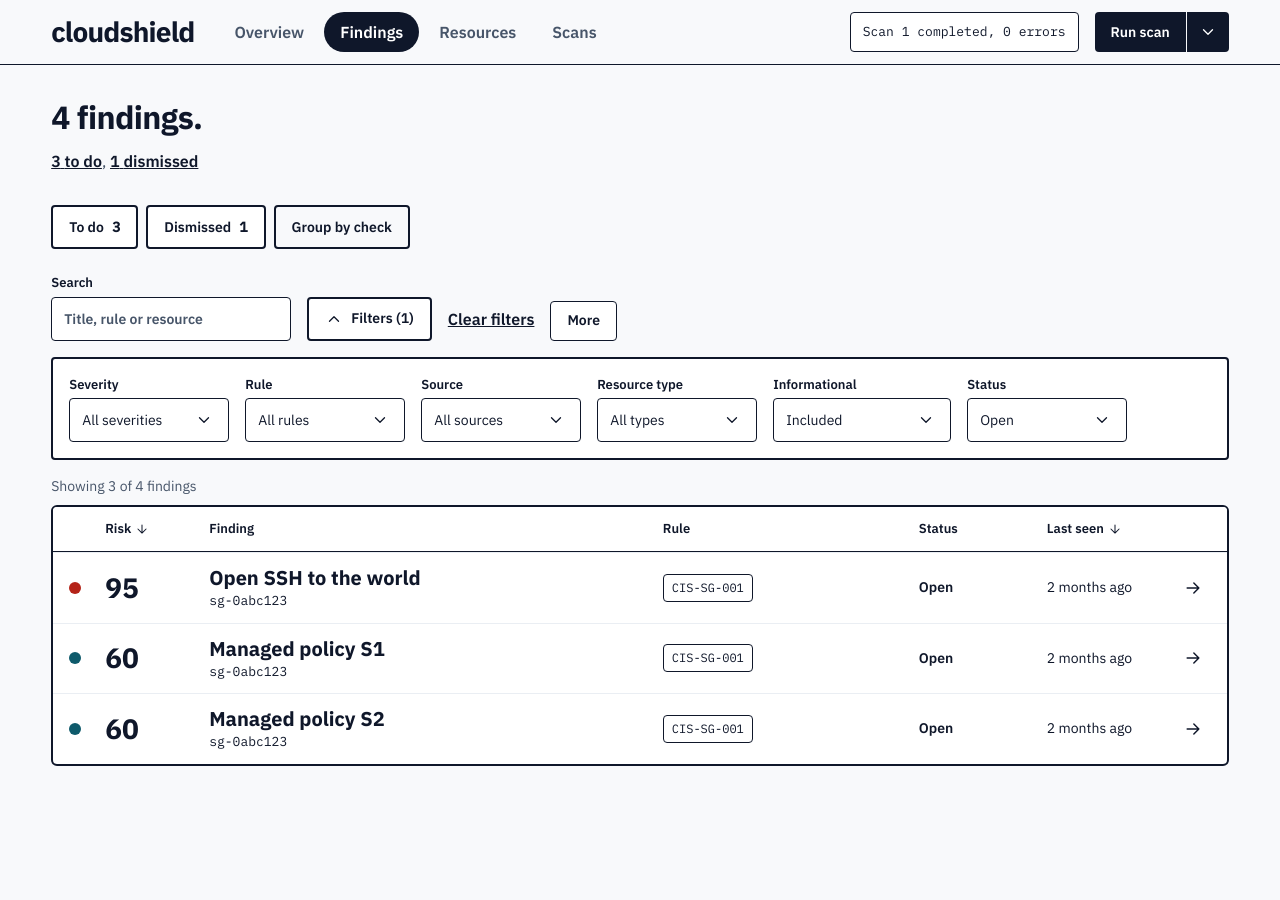
Test case: Bulk dismissal of AWS-managed findings › needs a reason of at least 10 characters
Click the button "More": point(584, 320) [550, 300, 617, 340]
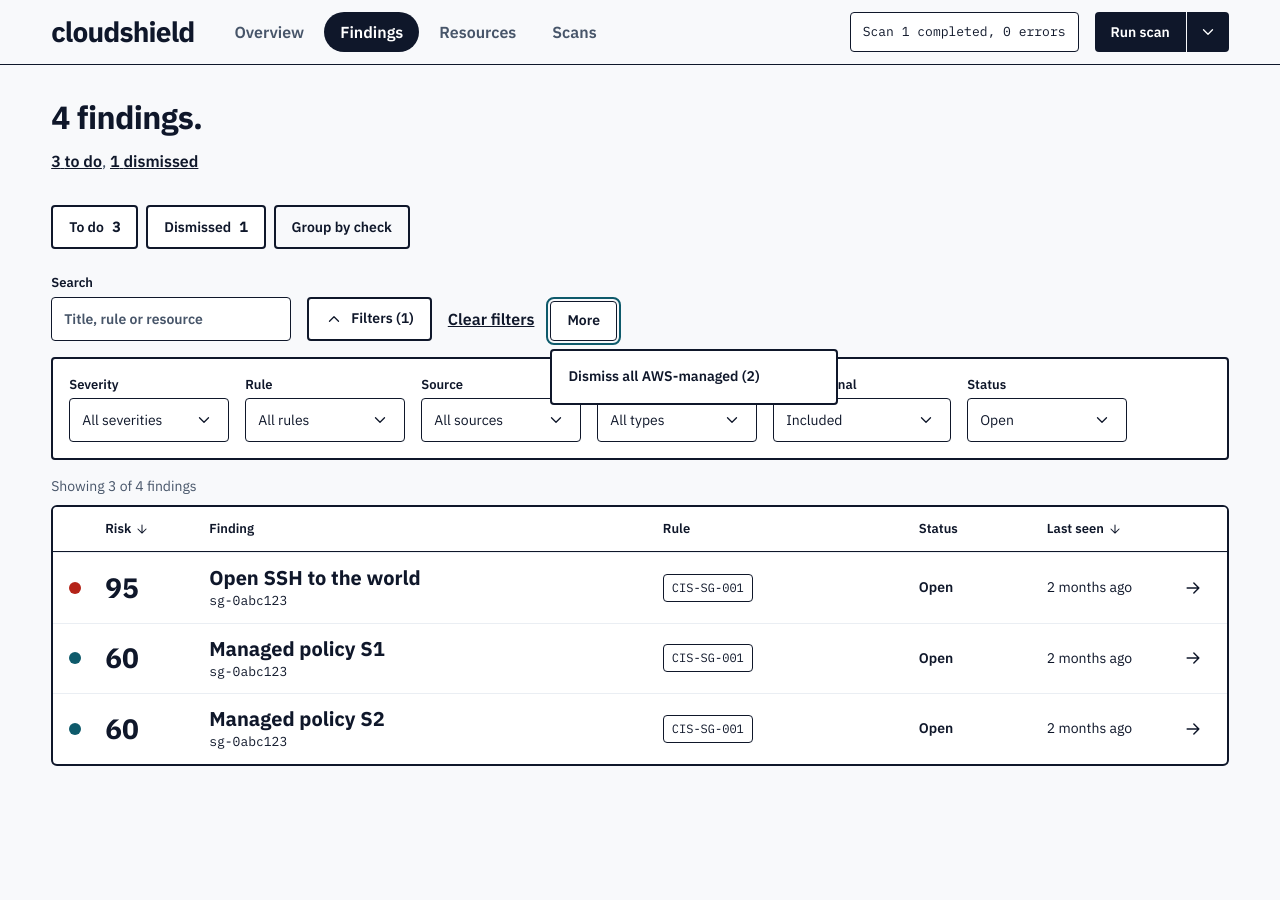
Click the menu item "Dismiss all AWS-managed (2)": point(694, 376) [556, 354, 832, 398]
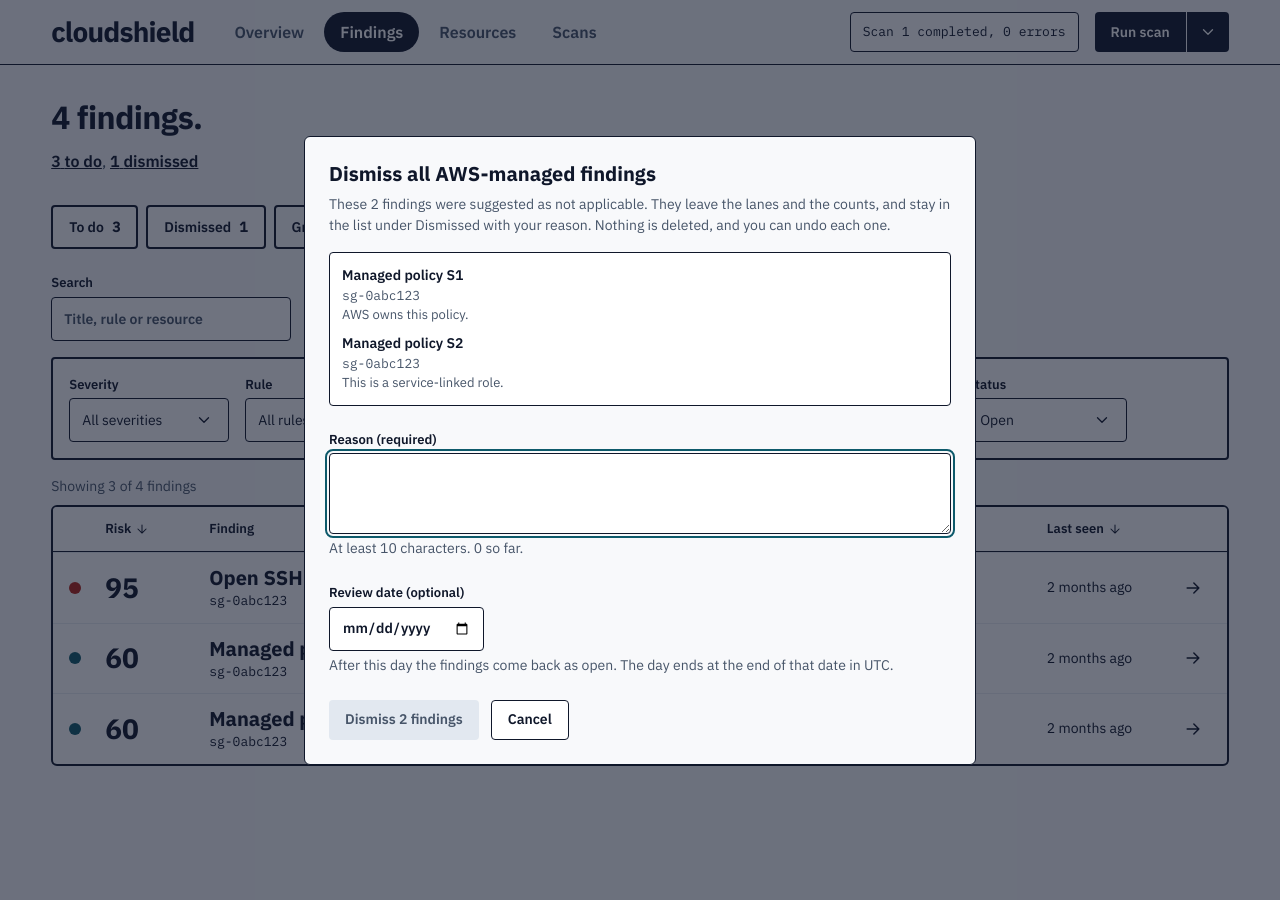
Now the button "Dismiss 2 findings" is disabled, box [329, 700, 479, 740]
In the text box labelled "Reason (required)": point(640, 494) [329, 453, 951, 534], type "too short"
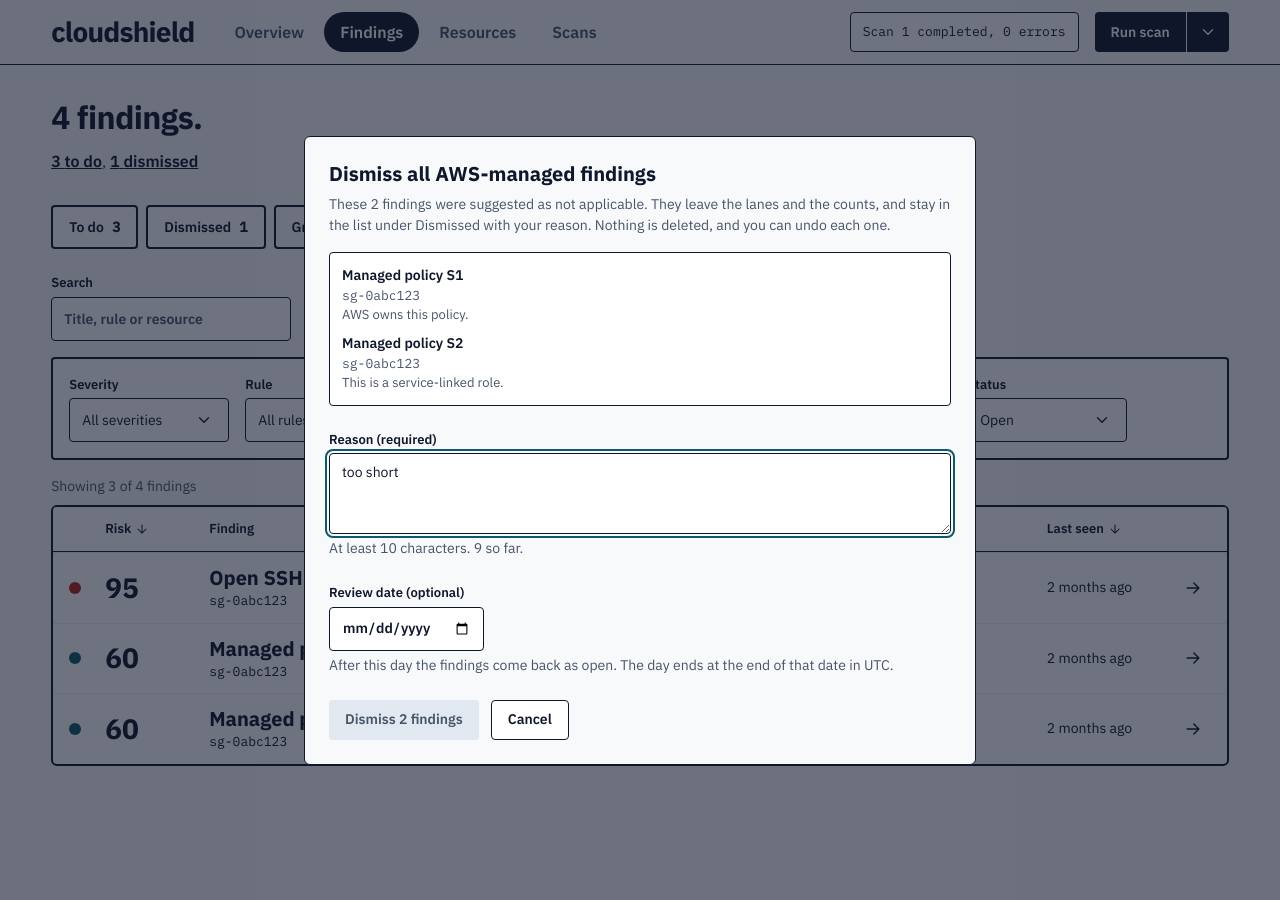
Now the button "Dismiss 2 findings" is disabled, box [329, 700, 479, 740]
Now the dialog shows "At least 10 characters. 9 so far.", box [329, 539, 523, 557]
In the text box labelled "Reason (required)": point(640, 494) [329, 453, 951, 534], type "!"
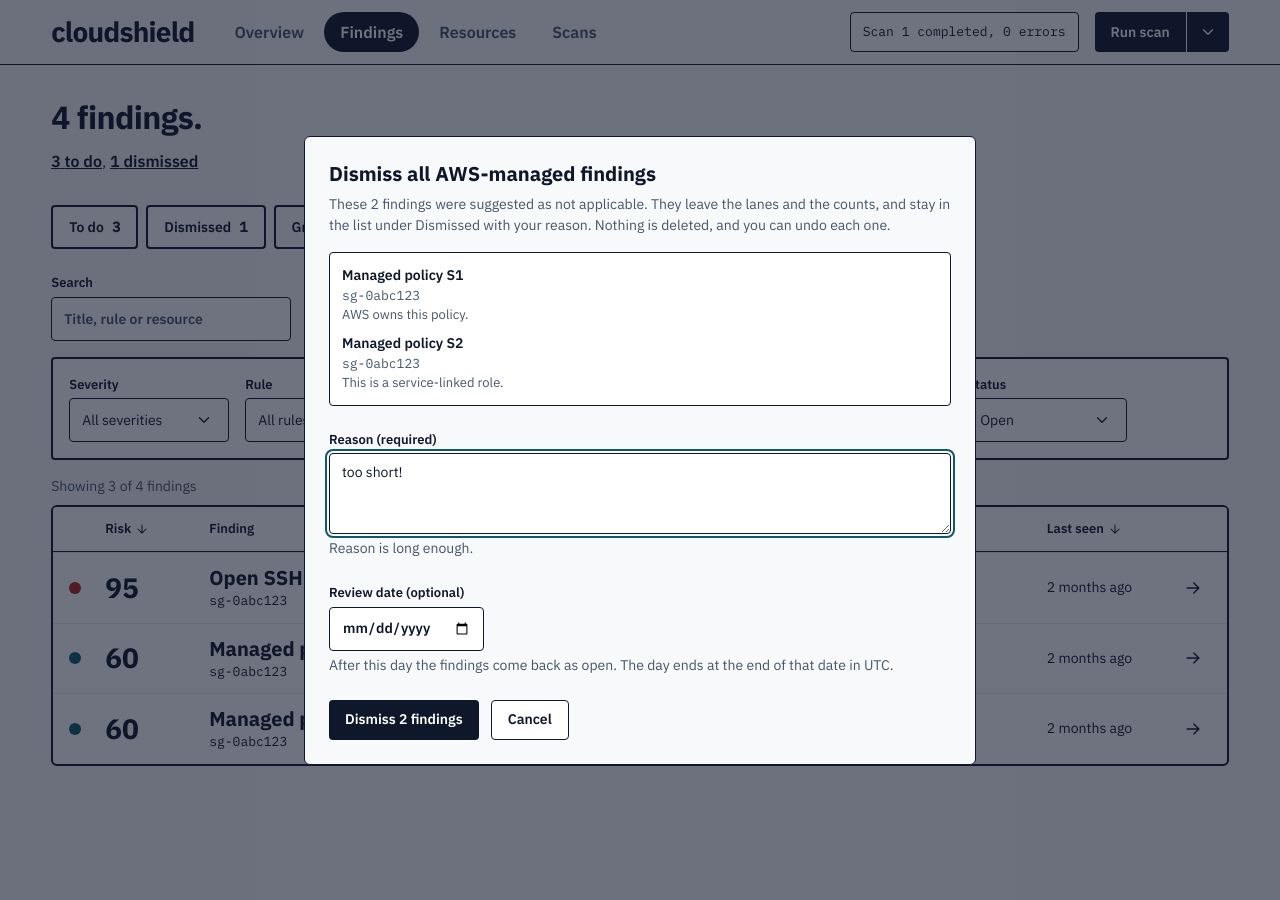
Now the button "Dismiss 2 findings" is enabled, box [329, 700, 479, 740]
